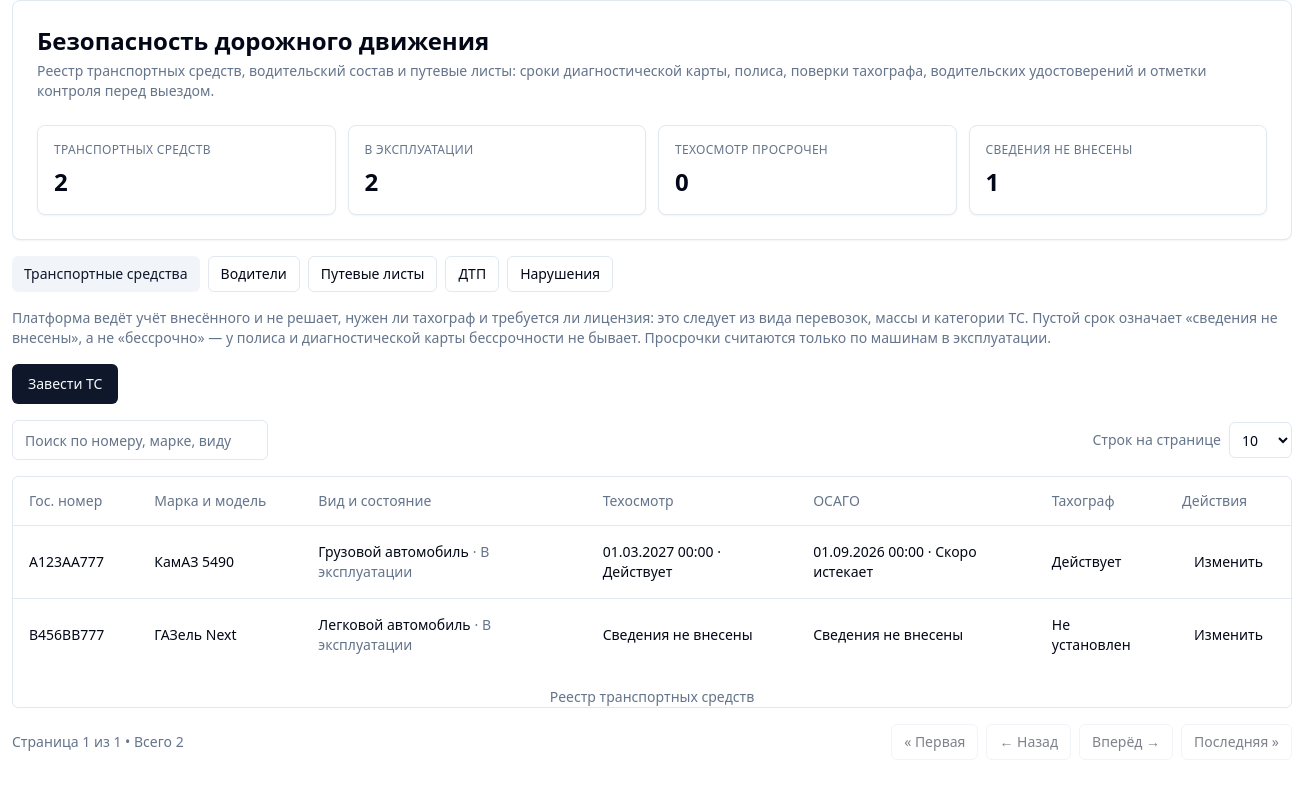
RoadSafetyPage › пустой состав водителей объясняет, что вносить
Expected: the text "А123АА777" is shown, [13,525,138,598]
Click the button "Водители": (254, 274) [208,256,300,292]
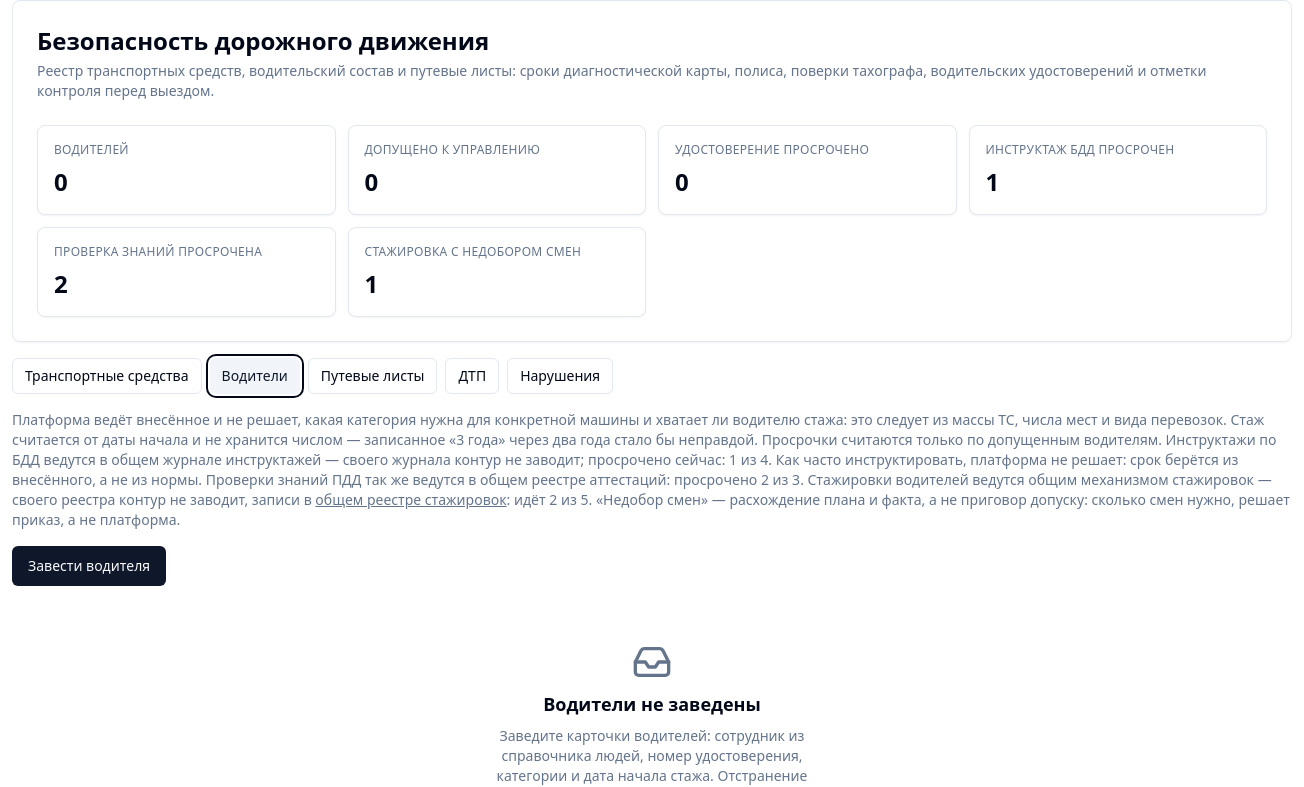
Now the heading "Водители не заведены" is shown, box [543,690,761,718]
